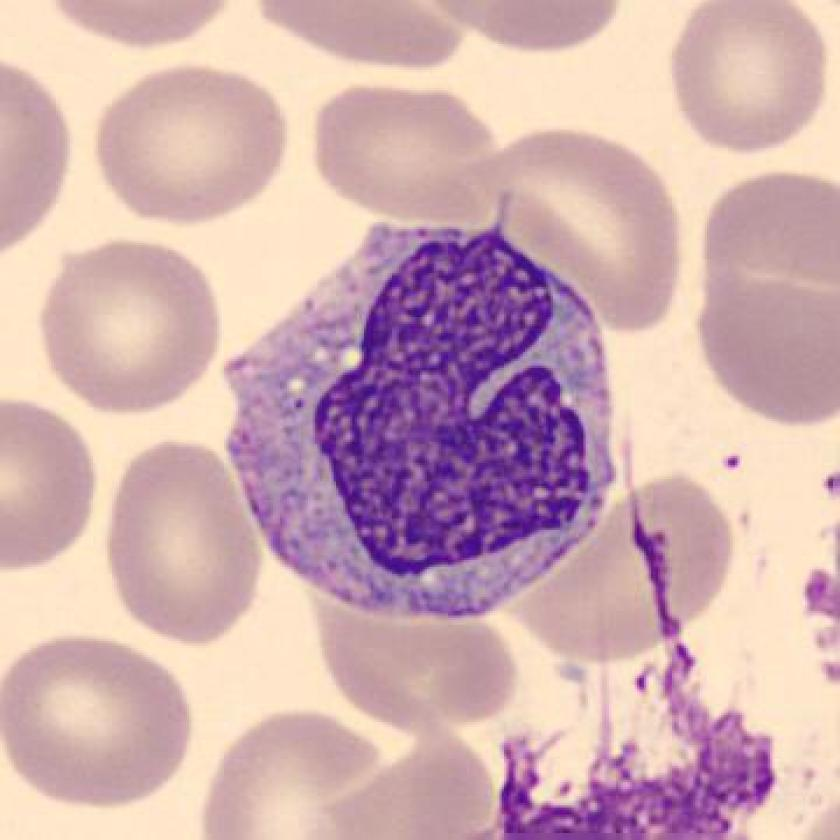monocyte: (197, 200, 650, 633)
